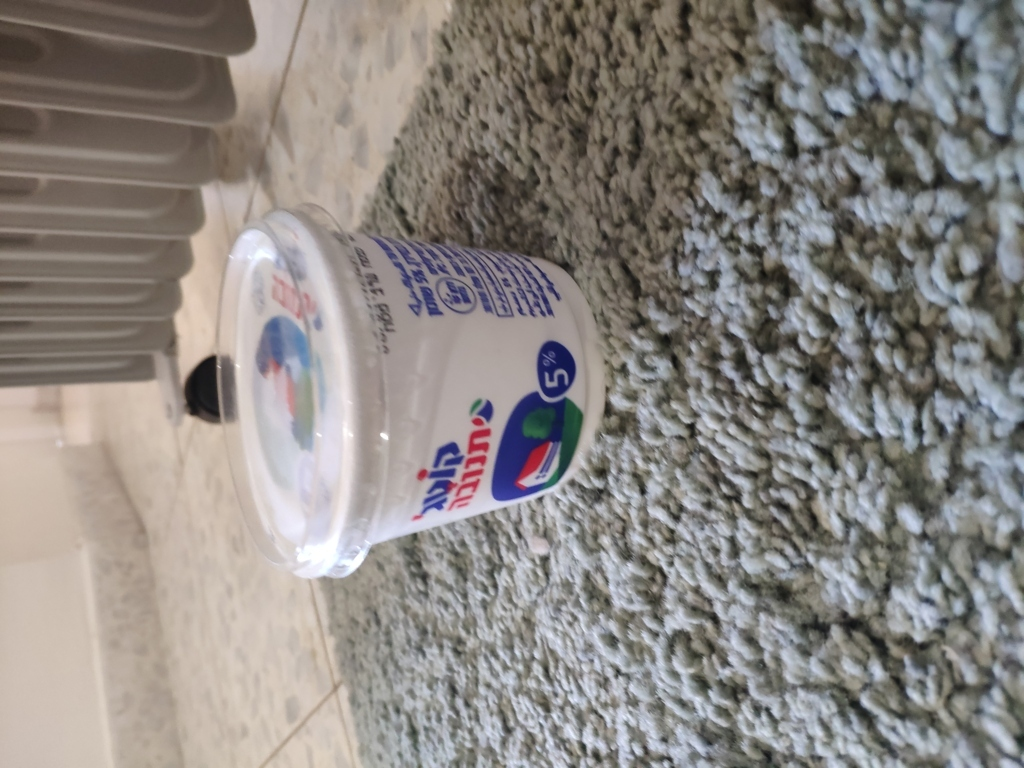Cotage: (213, 230, 614, 553)
